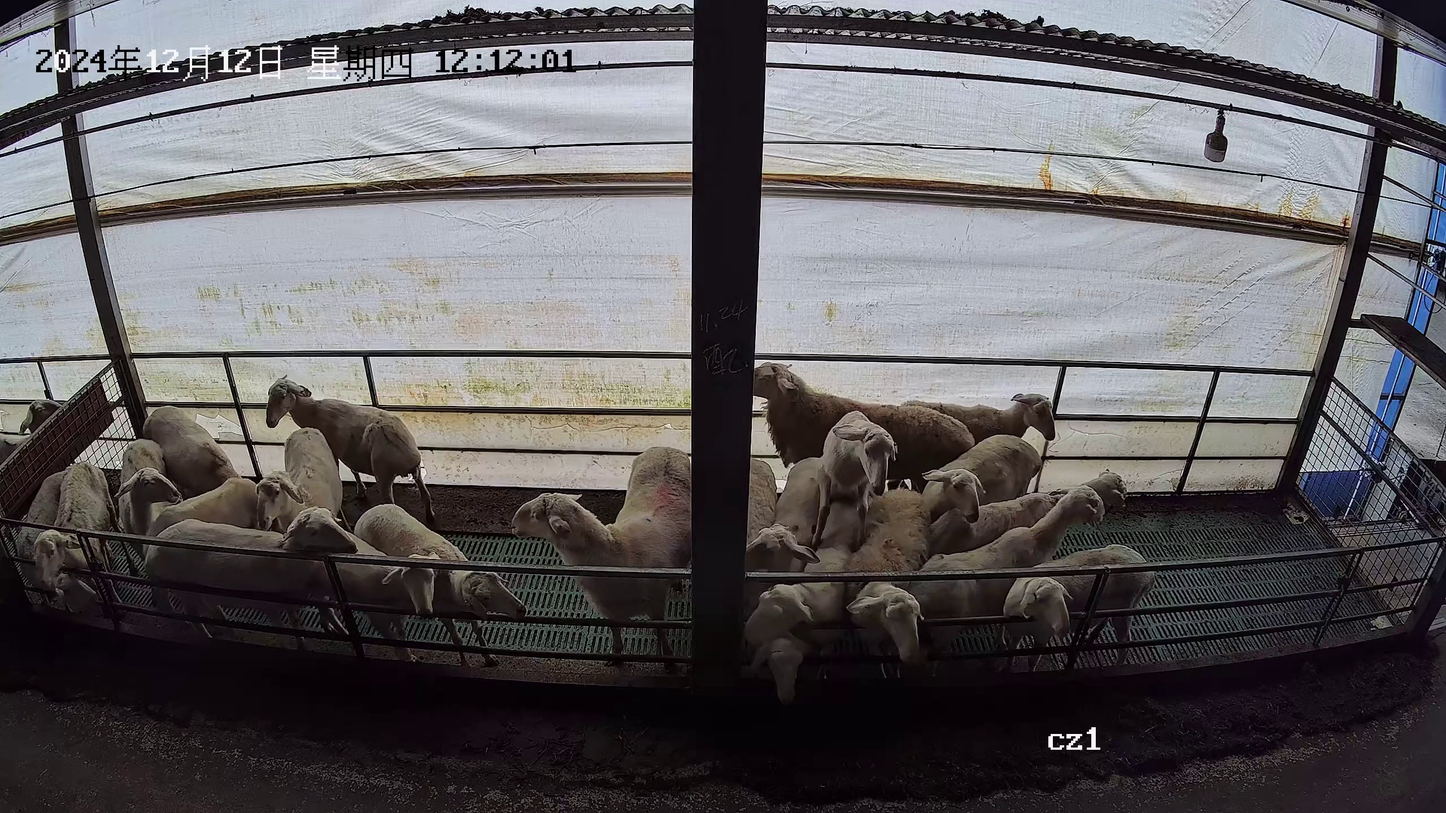Nmounting: (804, 406, 901, 658)
